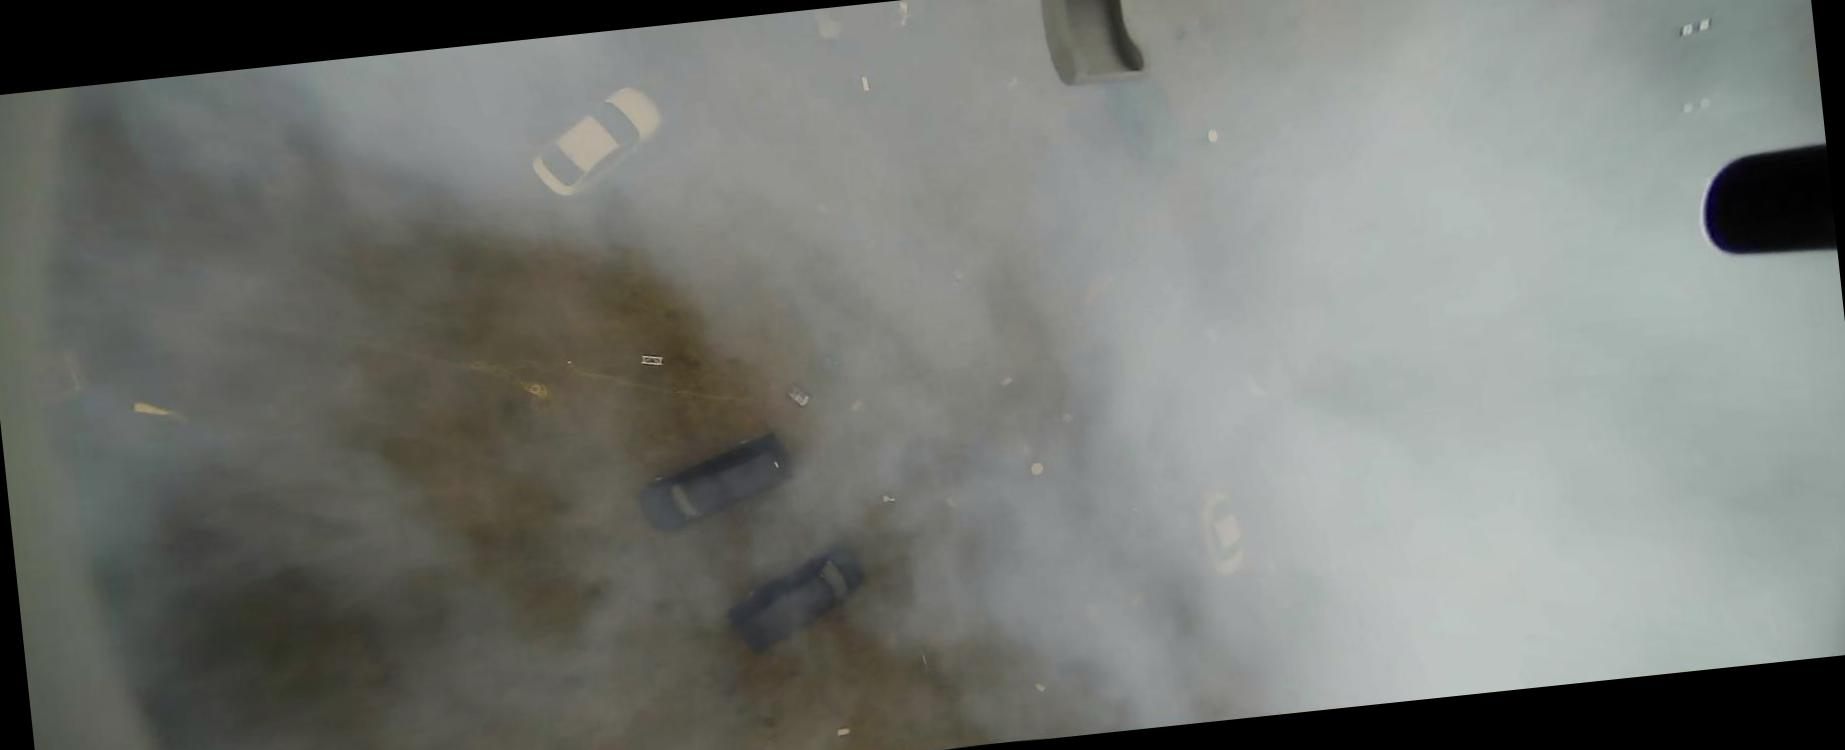vehicle: (521, 80, 671, 203), (633, 427, 799, 537), (720, 544, 872, 658), (1103, 71, 1183, 170), (1193, 487, 1250, 580), (1239, 352, 1293, 405)
